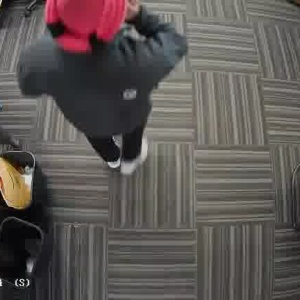person: (36, 0, 166, 153)
